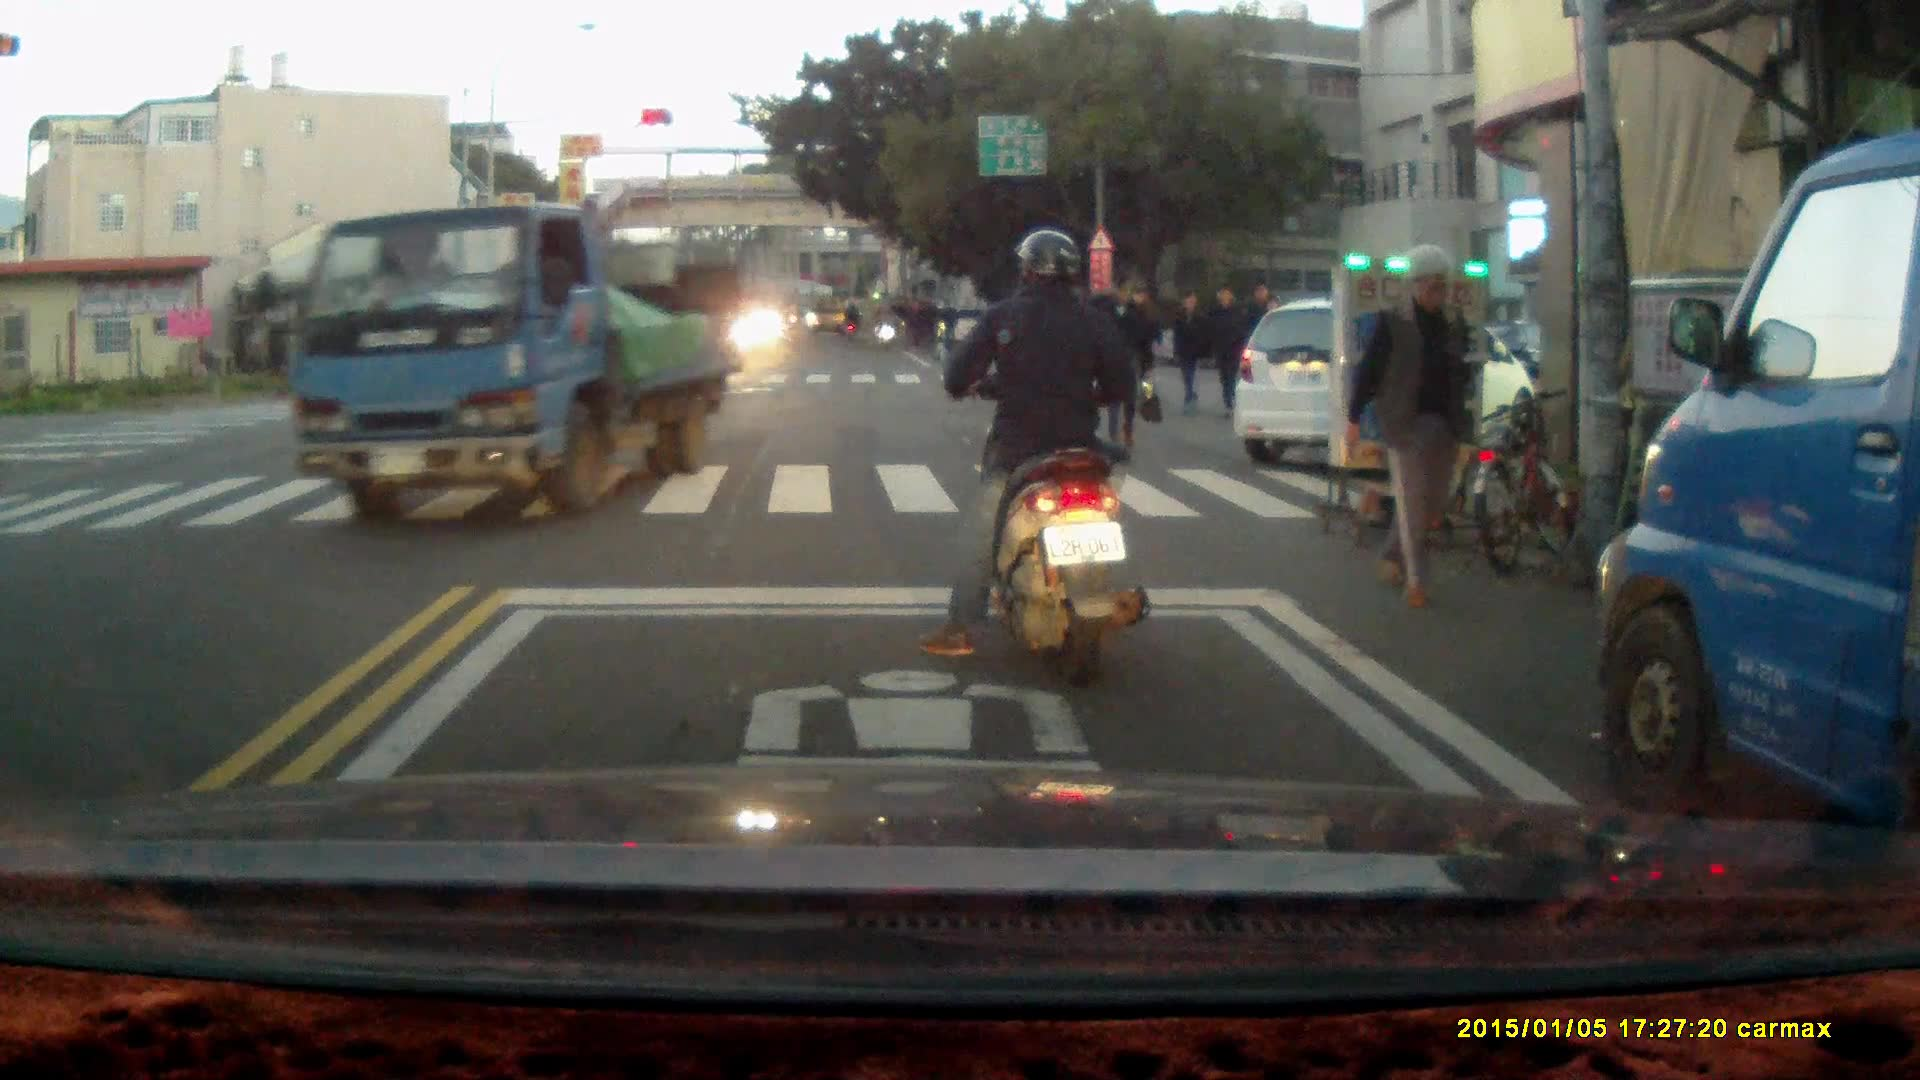pedestrian: (1339, 242, 1478, 614), (1091, 274, 1160, 456), (1202, 283, 1243, 413), (1167, 286, 1207, 420)
rider: (917, 229, 1150, 691), (869, 300, 899, 357)
vehicle: (1596, 120, 1920, 901), (290, 200, 750, 523), (1236, 303, 1533, 462)
